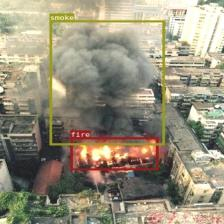fire: (70, 137, 158, 170)
smoke: (50, 20, 164, 145)
